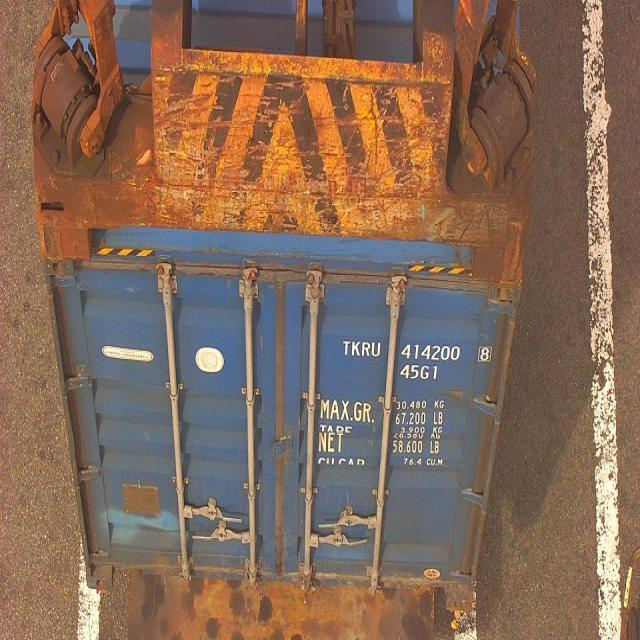ISO: (400, 364, 438, 382)
container_number: (342, 344, 491, 362)
